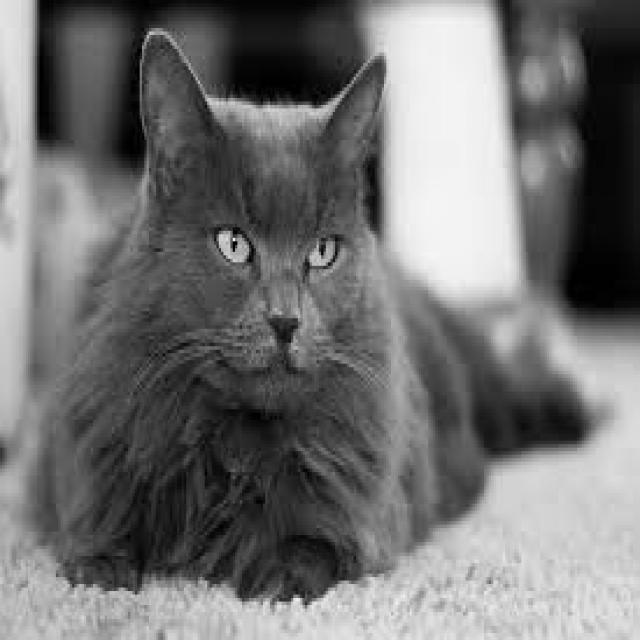Cat: (30, 23, 592, 604)
